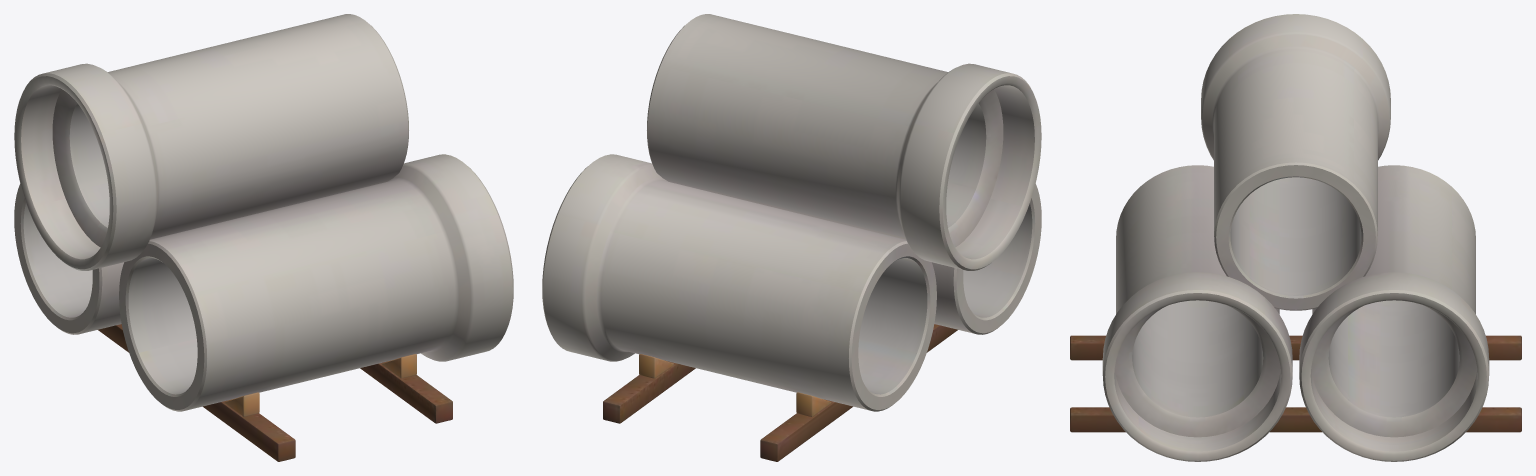
Rendered from concrete-pipe.glb.
The picture shows the model from 3 angles, left to right: view 1: azimuth 30°, elevation 25°; view 2: azimuth 150°, elevation 25°; view 3: azimuth 270°, elevation 25°; orthographic projection. The views are drawn at different scales.
Parts seen in each view (by area): view 1: concrete-pipe_body; view 2: concrete-pipe_body; view 3: concrete-pipe_body.
Part boxes in pixels (left/top/right/bottom): concrete-pipe_body: left=14, top=14, right=513, bottom=461; concrete-pipe_body: left=542, top=14, right=1041, bottom=461; concrete-pipe_body: left=1070, top=14, right=1521, bottom=461.
Bounding box in the file's own units: 2.3 × 2 × 2.76.
Materials: 1 (1 with a texture image).
